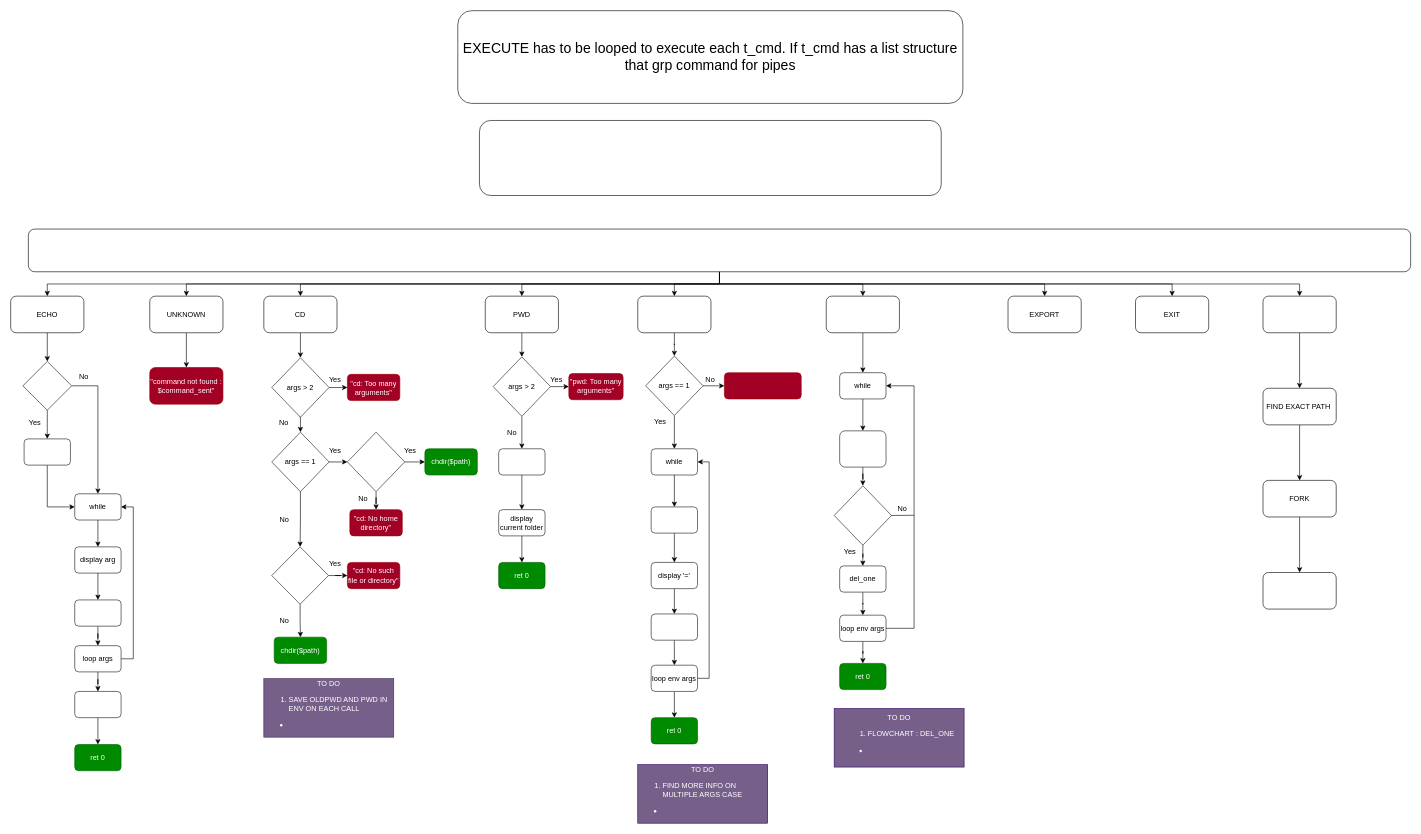
Some shapes in this 1421 by 834 pixel diagram are drawn without their labels. The centre of each missing label's shape, as x and y in pixels:
"env: «$arg_sent»: No such file or directory": point (762, 385)
*var exists: point (863, 515)
-n option: point (47, 385)
display env_var name: point (674, 519)
display env_var value: point (674, 626)
EACH BUILTIN HAS : int ft_builtin(t_ms *ms, t_cmd *cmd): point (710, 158)
ENV: point (674, 314)
EXEC PROG: point (1299, 590)
EXECUTE FUNCTION: point (719, 250)
EXECVE: point (1299, 314)
getcwd & save it in t_ms: point (521, 461)
getenv("HOME"): point (376, 462)
if (args + 1) add a space: point (97, 612)
if(no_newline) add a \n: point (97, 704)
set no_newline to 1: point (46, 451)
store return of ft_getenv in a t_var *var: point (862, 448)
unknown args: point (299, 575)
UNSET: point (862, 314)
